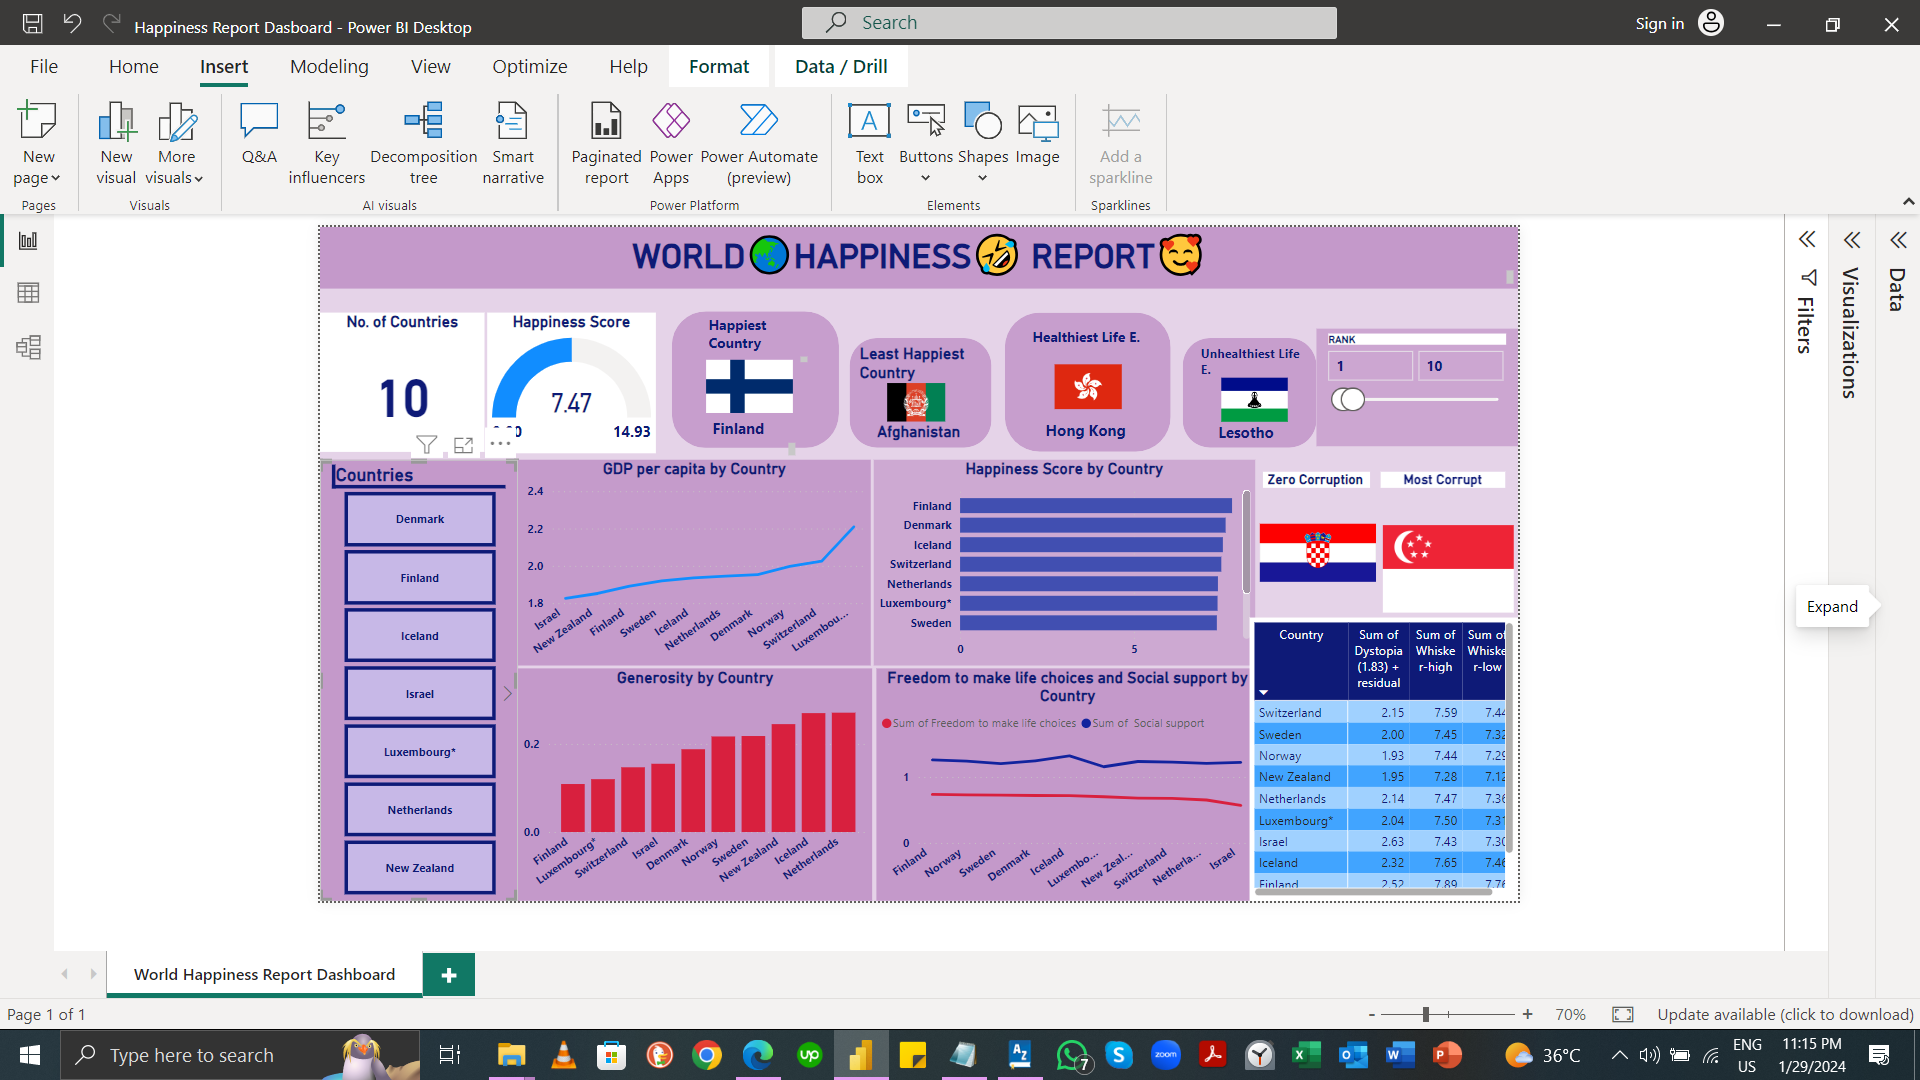

The page's visual inventory and layout, read from the dashboard file:
{"tool":"powerbi","page":{"name":"World Happiness Report Dashboard","canvas":[1280,720],"ordinal":0},"visuals":[{"type":"group","id":"g1","title":"Group 2","box":[375.1,90.6,178.6,158.6],"z":0},{"type":"shape","box":[375.1,90.6,178.6,146.1],"z":0,"group":"g8"},{"type":"group","id":"g2","title":"Group 2","box":[731.2,92,180,148.6],"z":0,"group":"g5"},{"type":"shape","box":[731.2,92,177.2,148.6],"z":0,"group":"g9"},{"type":"group","id":"g3","title":"Group 2","box":[921.4,118.6,142.9,117.1],"z":0,"group":"g6"},{"type":"shape","box":[921.4,118.6,142.9,117.1],"z":0,"group":"g10"},{"type":"group","id":"g4","title":"Group 2","box":[565.1,119.2,151.4,117.1],"z":0,"group":"g7"},{"type":"shape","box":[565.1,119.2,151.4,117.1],"z":0,"group":"g11"},{"type":"group","id":"g5","title":"Group 3","box":[731.2,92,180,148.6],"z":1000,"group":"g12"},{"type":"group","id":"g6","title":"Group 3","box":[921.4,118.6,142.9,117.1],"z":1000,"group":"g13"},{"type":"group","id":"g7","title":"Group 3","box":[565.1,119.2,151.4,117.1],"z":1000},{"type":"image","box":[406.3,133.7,102.9,74.3],"z":1000,"group":"g8"},{"type":"image","box":[588,162.1,97.1,51.4],"z":1000,"group":"g7"},{"type":"group","id":"g8","title":"Group 1","box":[375.1,90.6,178.6,158.6],"z":1001,"group":"g1"},{"type":"group","id":"g9","title":"Group 1","box":[731.2,92,180,148.6],"z":1001,"group":"g2"},{"type":"group","id":"g10","title":"Group 1","box":[921.4,118.6,142.9,117.1],"z":1001,"group":"g3"},{"type":"group","id":"g11","title":"Group 1","box":[565.1,119.2,151.4,117.1],"z":1001,"group":"g4"},{"type":"card","title":"No. of Countries","fields":{"Values":["CountNonNull(uc?export=download&id=1_CnjjxdWbtB5mhh2nvazMmOQMO0H-WdY.Country)"]},"box":[0,91.4,175.7,148.6],"z":2000},{"type":"textbox","title":"Happiest Country","box":[408.8,94.4,115.3,55.2],"z":2000,"group":"g8"},{"type":"textbox","title":"Healthiest Life E.","box":[756.1,107.7,155.1,22.8],"z":2000,"group":"g9"},{"type":"textbox","title":"Least Happiest           Country","box":[570.8,126.3,134.3,40],"z":2000,"group":"g11"},{"type":"textbox","title":"Unhealthiest Life E.","box":[935.1,126.4,125.7,32.9],"z":2000,"group":"g10"},{"type":"group","id":"g12","title":"Group 4","box":[731.2,92,180,148.6],"z":3000},{"type":"image","box":[761.5,141.6,118.2,58.2],"z":3000,"group":"g12"},{"type":"textbox","title":"Finland","box":[414.2,204.6,98.6,44.5],"z":3000,"group":"g8"},{"type":"textbox","title":"Hong Kong","box":[768.3,206.2,98.3,27.5],"z":3000,"group":"g9"},{"type":"textbox","title":"Lesotho","box":[954.3,208.6,78.6,21.4],"z":3000,"group":"g10"},{"type":"textbox","title":"Afghanistan","box":[589.4,209.2,105.7,25.7],"z":3000,"group":"g11"},{"type":"gauge","title":"Happiness Score","fields":{"Y":["Avg(uc?export=download&id=1_CnjjxdWbtB5mhh2nvazMmOQMO0H-WdY.Happiness score)"]},"box":[178.6,91.4,180,150],"z":4000},{"type":"group","id":"g13","title":"Group 4","box":[921.4,118.6,142.9,117.1],"z":5000},{"type":"image","box":[951.4,155.7,92.9,57.1],"z":6000},{"type":"slicer","fields":{"Values":["uc?export=download&id=1_CnjjxdWbtB5mhh2nvazMmOQMO0H-WdY.Country"]},"box":[0,248.6,211.4,471.4],"z":7000},{"type":"clusteredColumnChart","title":"Generosity by Country","fields":{"Y":["Sum(uc?export=download&id=1_CnjjxdWbtB5mhh2nvazMmOQMO0H-WdY. Generosity)"],"Category":["uc?export=download&id=1_CnjjxdWbtB5mhh2nvazMmOQMO0H-WdY.Country"]},"box":[211.4,471.4,378.6,248.6],"z":8000},{"type":"slicer","fields":{"Values":["World Happiness Report.RANK"]},"box":[1064.3,108.6,215.7,125.7],"z":9000},{"type":"lineChart","title":"GDP per capita by Country","fields":{"Category":["uc?export=download&id=1_CnjjxdWbtB5mhh2nvazMmOQMO0H-WdY.Country"],"Y":["Sum(uc?export=download&id=1_CnjjxdWbtB5mhh2nvazMmOQMO0H-WdY. GDP per capita)"]},"box":[211.4,248.6,377.1,220],"z":10000},{"type":"lineChart","title":"Freedom to make life choices and Social support by Country","fields":{"Y":["Sum(World Happiness Report.Freedom to make life choices)","Sum(World Happiness Report. Social support)"],"Category":["World Happiness Report.Country"]},"box":[594.3,471.4,408.6,248.6],"z":11000},{"type":"clusteredBarChart","title":"Happiness Score by Country","fields":{"Category":["World Happiness Report.Country"],"Y":["Sum(World Happiness Report.Happiness score)"]},"box":[591.4,248.6,407.1,220],"z":12000},{"type":"pivotTable","fields":{"Values":["Sum(World Happiness Report.Dystopia (1.83) + residual)","Sum(World Happiness Report.Whisker-high)","Sum(World Happiness Report.Whisker-low)"],"Rows":["World Happiness Report.Country"]},"box":[992.9,417.1,287.1,302.9],"z":13000},{"type":"textbox","title":"WORLD🌏HAPPINESS🤣 REPORT🥰","box":[0,0,1280,65.7],"z":14000},{"type":"image","box":[998.6,241.4,134.3,212.9],"z":14001},{"type":"image","box":[1130,290,150,150],"z":14002},{"type":"textbox","title":"Zero Corruption","box":[1007.1,261.4,114.3,17.1],"z":14003},{"type":"textbox","title":"Most Corrupt","box":[1132.9,261.4,132.9,17.1],"z":14004}]}

Visuals, with their boxes on the page's 1280x720 design canvas (x1, y1, x2, y2). These are canvas units, not pixel positions in the 1920x1080 screenshot, which may show the page scaled, cropped or inside an application window:
"Group 2" group: locate(375, 91, 554, 249)
shape: locate(375, 91, 554, 237)
"Group 2" group: locate(731, 92, 911, 241)
shape: locate(731, 92, 908, 241)
"Group 2" group: locate(921, 119, 1064, 236)
shape: locate(921, 119, 1064, 236)
"Group 2" group: locate(565, 119, 716, 236)
shape: locate(565, 119, 716, 236)
"Group 3" group: locate(731, 92, 911, 241)
"Group 3" group: locate(921, 119, 1064, 236)
"Group 3" group: locate(565, 119, 716, 236)
image: locate(406, 134, 509, 208)
image: locate(588, 162, 685, 214)
"Group 1" group: locate(375, 91, 554, 249)
"Group 1" group: locate(731, 92, 911, 241)
"Group 1" group: locate(921, 119, 1064, 236)
"Group 1" group: locate(565, 119, 716, 236)
"No. of Countries" card: locate(0, 91, 176, 240)
"Happiest Country" textbox: locate(409, 94, 524, 150)
"Healthiest Life E." textbox: locate(756, 108, 911, 130)
"Least Happiest           Country" textbox: locate(571, 126, 705, 166)
"Unhealthiest Life E." textbox: locate(935, 126, 1061, 159)
"Group 4" group: locate(731, 92, 911, 241)
image: locate(762, 142, 880, 200)
"Finland" textbox: locate(414, 205, 513, 249)
"Hong Kong" textbox: locate(768, 206, 867, 234)
"Lesotho" textbox: locate(954, 209, 1033, 230)
"Afghanistan" textbox: locate(589, 209, 695, 235)
"Happiness Score" gauge: locate(179, 91, 359, 241)
"Group 4" group: locate(921, 119, 1064, 236)
image: locate(951, 156, 1044, 213)
slicer - uc?export=download&id=1_CnjjxdWbtB5mhh2nvazMmOQMO0H-WdY.Country: locate(0, 249, 211, 720)
"Generosity by Country" clusteredColumnChart: locate(211, 471, 590, 720)
slicer - World Happiness Report.RANK: locate(1064, 109, 1280, 234)
"GDP per capita by Country" lineChart: locate(211, 249, 588, 469)
"Freedom to make life choices and Social support by Country" lineChart: locate(594, 471, 1003, 720)
"Happiness Score by Country" clusteredBarChart: locate(591, 249, 998, 469)
pivotTable - Sum(World Happiness Report.Dystopia (1.83) + residual) x Sum(World Happiness Report.Whisker-high): locate(993, 417, 1280, 720)
"WORLD🌏HAPPINESS🤣 REPORT🥰" textbox: locate(0, 0, 1280, 66)
image: locate(999, 241, 1133, 454)
image: locate(1130, 290, 1280, 440)
"Zero Corruption" textbox: locate(1007, 261, 1121, 278)
"Most Corrupt" textbox: locate(1133, 261, 1266, 278)
